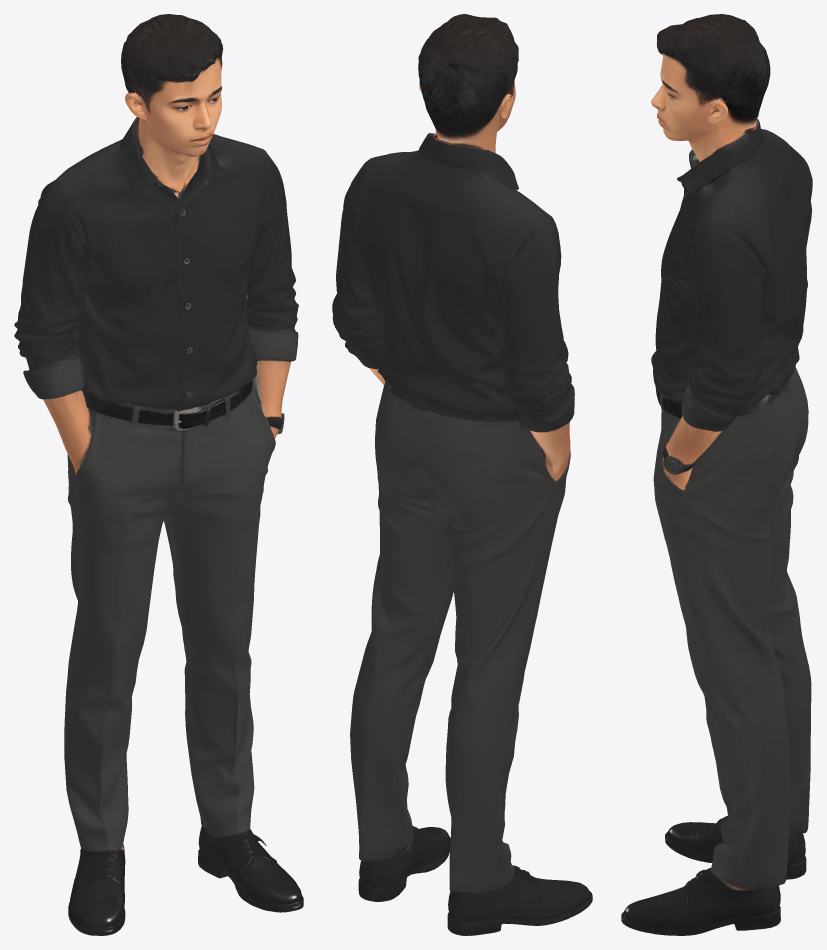
File: professional.glb
The picture shows the model from 3 angles, left to right: view 1: azimuth 30°, elevation 25°; view 2: azimuth 150°, elevation 25°; view 3: azimuth 270°, elevation 25°; orthographic projection.
Size of the model in its own units: 0.5687 by 1.9 by 0.379.
Materials: 1 (1 with a texture image).
